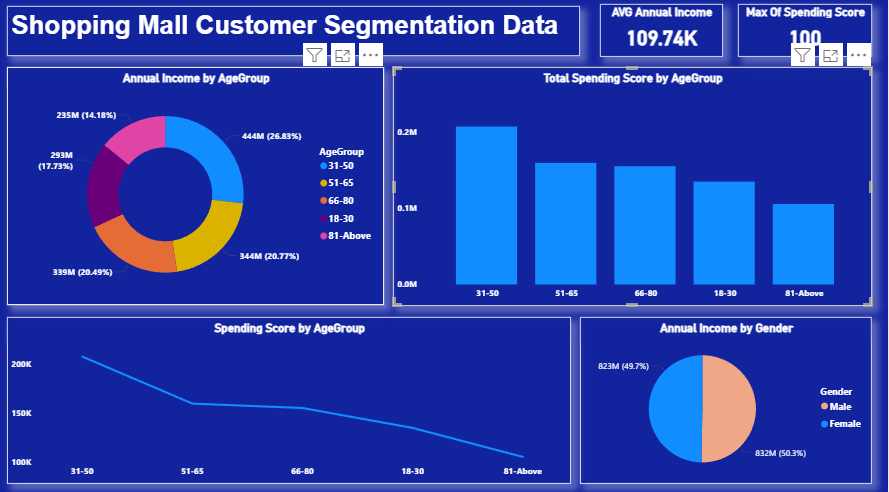

Layout of this report page (visuals, bound fields, positions):
{"tool":"powerbi","page":{"name":"Page 1","canvas":[1280,720],"ordinal":0},"visuals":[{"type":"textbox","box":[10.1,18.5,824.8,72.2],"z":0},{"type":"card","title":"AVG Annual Income","fields":{"Values":["Avg(Shopping Mall Customer Segmentation Data.Annual Income)"]},"box":[864,15.8,177.1,76.3],"z":1},{"type":"card","title":"Max  Of Spending Score","fields":{"Values":["Max(Shopping Mall Customer Segmentation Data.Spending Score)"]},"box":[1062.7,15.8,193,76.3],"z":2},{"type":"pieChart","title":"Annual Income by Gender","fields":{"Category":["Shopping Mall Customer Segmentation Data.Gender"],"Y":["Sum(Shopping Mall Customer Segmentation Data.Annual Income)"]},"box":[835.2,466.6,420.5,240.5],"z":3},{"type":"donutChart","title":"Annual Income by AgeGroup","fields":{"Y":["Sum(Shopping Mall Customer Segmentation Data.Annual Income)"],"Category":["Shopping Mall Customer Segmentation Data.AgeGroup"]},"box":[10.1,106.6,542.9,342.7],"z":4},{"type":"clusteredColumnChart","title":"Total Spending Score by AgeGroup","fields":{"Y":["Sum(Shopping Mall Customer Segmentation Data.Spending Score)"],"Category":["Shopping Mall Customer Segmentation Data.AgeGroup"]},"box":[565.9,106.6,689.8,344.2],"z":5},{"type":"lineChart","title":"Spending Score by AgeGroup","fields":{"Y":["Sum(Shopping Mall Customer Segmentation Data.Spending Score)"],"Category":["Shopping Mall Customer Segmentation Data.AgeGroup"]},"box":[10.1,466.6,812.2,240.5],"z":6}]}

Visuals, with their boxes in screenshot pixels (x1, y1, x2, y2), scaled from the page's 1280x720 canvas onto the 889x492 screenshot:
textbox: (x1=7, y1=13, x2=580, y2=62)
"AVG Annual Income" card: (x1=600, y1=11, x2=723, y2=63)
"Max  Of Spending Score" card: (x1=738, y1=11, x2=872, y2=63)
"Annual Income by Gender" pieChart: (x1=580, y1=319, x2=872, y2=483)
"Annual Income by AgeGroup" donutChart: (x1=7, y1=73, x2=384, y2=307)
"Total Spending Score by AgeGroup" clusteredColumnChart: (x1=393, y1=73, x2=872, y2=308)
"Spending Score by AgeGroup" lineChart: (x1=7, y1=319, x2=571, y2=483)
